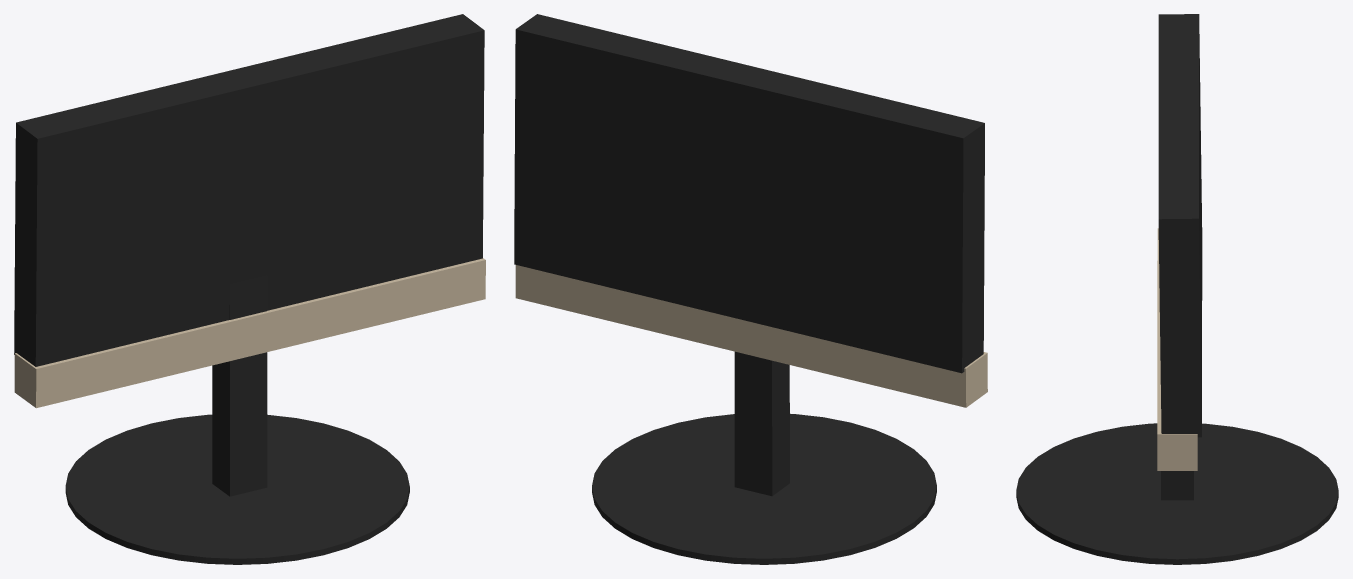
Rendered from hospital_monitor.fbx.
3 renders of one model, left to right at view 1: azimuth 30°, elevation 25°; view 2: azimuth 150°, elevation 25°; view 3: azimuth 270°, elevation 25°, orthographic. The views are drawn at different scales.
Parts seen in each view (by area): view 1: Cube_11, Cylinder, Cube_12, Cube_10; view 2: Cube_11, Cylinder, Cube_12, Cube_10; view 3: Cylinder, Cube_11, Cube_12, Cube_10.
Part boxes in pixels (x1,y1,x2,y2): Cube_11: [14, 14, 484, 366]; Cylinder: [65, 414, 409, 564]; Cube_12: [14, 258, 485, 408]; Cube_10: [212, 275, 267, 496]; Cube_11: [514, 14, 984, 373]; Cylinder: [592, 413, 936, 564]; Cube_12: [515, 265, 987, 407]; Cube_10: [734, 351, 789, 496]; Cylinder: [1016, 423, 1338, 564]; Cube_11: [1158, 14, 1202, 437]; Cube_12: [1157, 228, 1197, 470]; Cube_10: [1161, 471, 1193, 500].
Bounding box in the file's own units: 68.46 × 60.8 × 45.4.
